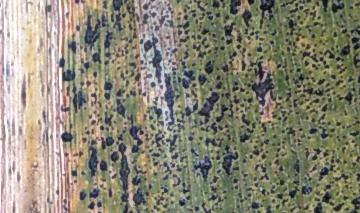tarspot: (139, 33, 163, 80), (117, 139, 132, 213), (196, 87, 223, 122), (161, 70, 176, 128), (196, 88, 220, 123), (251, 79, 278, 108), (84, 14, 103, 49), (193, 151, 213, 183), (220, 149, 239, 177), (257, 1, 276, 28), (84, 143, 99, 177), (114, 96, 129, 120), (71, 91, 87, 113), (101, 27, 116, 50), (132, 184, 145, 209), (112, 10, 125, 35), (221, 20, 238, 39), (203, 135, 224, 150), (61, 67, 78, 84), (166, 133, 179, 154), (58, 130, 76, 145), (183, 99, 197, 118), (337, 90, 354, 105), (254, 58, 266, 79), (100, 134, 116, 149), (128, 123, 141, 141), (101, 109, 114, 127), (241, 7, 253, 26), (65, 38, 79, 54), (228, 1, 241, 18), (239, 112, 252, 129), (330, 1, 347, 14), (292, 157, 303, 177), (323, 47, 337, 62), (131, 172, 147, 185), (339, 42, 351, 59), (203, 58, 214, 76), (153, 104, 164, 122), (321, 190, 333, 206), (193, 41, 205, 57), (90, 50, 103, 64), (300, 182, 313, 196), (88, 185, 100, 200), (318, 165, 330, 180), (55, 55, 68, 68), (108, 149, 120, 163), (238, 131, 250, 145), (111, 1, 125, 13), (97, 159, 109, 172), (101, 79, 114, 91), (128, 143, 141, 155), (313, 200, 325, 213), (76, 187, 87, 201), (286, 16, 296, 31), (67, 167, 79, 179), (287, 187, 299, 199), (140, 10, 149, 26), (182, 69, 195, 80), (249, 199, 263, 209), (197, 72, 207, 86), (239, 57, 247, 74), (306, 126, 318, 137), (319, 101, 330, 113), (131, 72, 143, 83), (296, 71, 307, 83), (347, 129, 360, 139), (320, 126, 328, 142), (333, 199, 342, 213), (101, 92, 113, 102), (302, 146, 311, 159), (209, 1, 222, 10), (179, 76, 187, 90), (82, 59, 92, 70), (254, 43, 264, 54), (219, 62, 229, 73), (151, 24, 162, 34), (213, 9, 223, 20), (278, 176, 287, 188), (316, 75, 325, 87), (114, 87, 126, 96), (221, 102, 230, 114), (346, 74, 355, 86), (349, 35, 359, 45), (89, 70, 100, 79), (339, 26, 350, 35), (100, 59, 111, 68), (178, 196, 186, 208), (334, 117, 342, 129), (139, 2, 151, 10), (322, 148, 330, 160), (275, 59, 283, 71), (86, 201, 96, 210), (199, 27, 209, 36), (103, 49, 112, 59), (232, 96, 241, 106), (214, 79, 222, 90), (193, 202, 201, 213), (150, 151, 161, 159), (182, 18, 189, 30), (95, 200, 104, 209), (185, 133, 194, 142), (233, 41, 242, 50), (252, 147, 261, 156), (267, 37, 276, 46), (303, 59, 312, 68), (147, 80, 157, 88), (324, 182, 334, 190), (330, 29, 338, 39), (231, 84, 239, 94), (213, 151, 220, 162), (218, 42, 225, 53), (207, 11, 214, 22), (341, 193, 349, 202), (329, 72, 338, 80), (240, 155, 248, 164), (246, 95, 253, 105), (232, 176, 239, 185), (277, 164, 284, 173)
